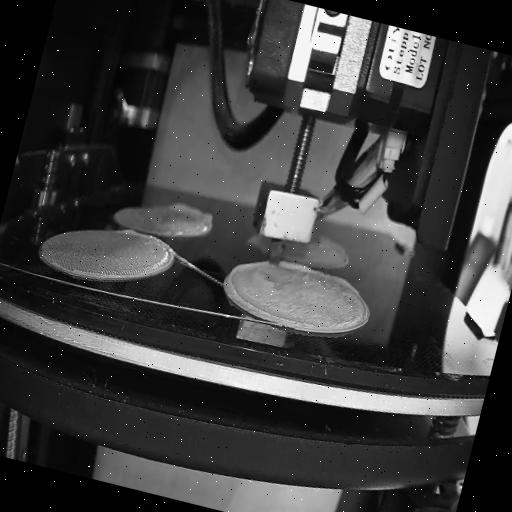over_extrusion: (218, 252, 274, 322), (168, 198, 216, 230), (277, 255, 313, 276), (338, 252, 352, 274), (120, 226, 138, 238)
